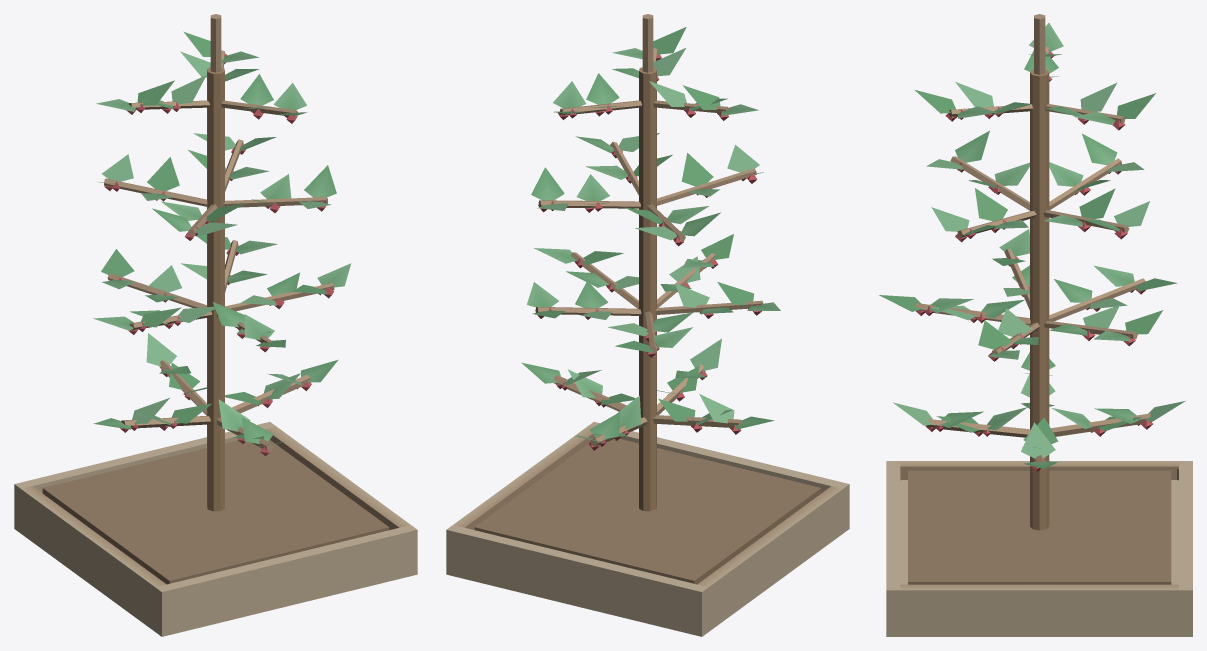
File: cafe_cosecha_near.glb
3 views of the same model, side by side, from view 1: azimuth 30°, elevation 25°; view 2: azimuth 150°, elevation 25°; view 3: azimuth 270°, elevation 25° (orthographic). The views are drawn at different scales.
Parts seen in each view (by area): view 1: model; view 2: model; view 3: model.
Boxes of the visible parts, bbox=[...] form: model: bbox=[14, 14, 417, 636]; model: bbox=[446, 14, 849, 636]; model: bbox=[879, 14, 1192, 636].
Bounding box in the file's own units: 1 × 2 × 1.03.
